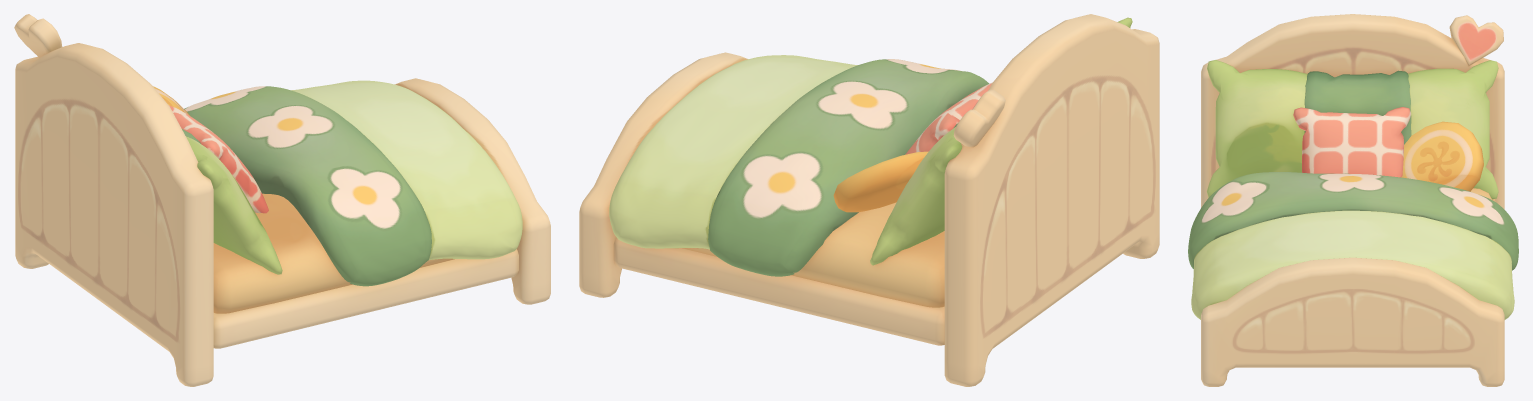
The model's file is bed.glb.
3 renders of one model, left to right at view 1: azimuth 30°, elevation 25°; view 2: azimuth 150°, elevation 25°; view 3: azimuth 270°, elevation 25°, orthographic. The views are drawn at different scales.
Visible parts, largest first — view 1: Plane, Plane.003, Plane.001, Plane.009, Plane.002, Plane.008, Plane.004, Plane.005, Circle; view 2: Plane, Plane.003, Plane.001, Plane.009, Plane.002, Plane.008, Plane.004, Plane.007, Circle, Plane.005; view 3: Plane.008, Plane.001, Plane.004, Plane, Plane.003, Plane.005, Plane.007, Plane.006, Circle.
Part boxes in pixels (x1,y1,x2,y2): Plane: (15,43,213,386); Plane.003: (184,86,431,286); Plane.001: (291,80,522,260); Plane.009: (213,249,518,348); Plane.002: (213,193,454,313); Plane.008: (395,78,550,304); Plane.004: (186,136,282,274); Plane.005: (169,105,268,213); Circle: (14,14,62,57); Plane: (944,14,1159,386); Plane.003: (708,59,989,276); Plane.001: (609,55,857,249); Plane.009: (613,237,944,345); Plane.002: (682,202,944,307); Plane.008: (579,52,748,297); Plane.004: (870,17,1132,265); Plane.007: (833,151,928,212); Circle: (953,89,1005,147); Plane.005: (905,82,992,154); Plane.008: (1201,257,1504,386); Plane.001: (1191,210,1514,319); Plane.004: (1207,60,1498,199); Plane: (1201,14,1504,209); Plane.003: (1188,172,1518,270); Plane.005: (1293,107,1411,177); Plane.007: (1401,121,1483,191); Plane.006: (1304,70,1411,144); Circle: (1449,15,1503,66).
Size of the model in its own units: 2.4 by 1.61 by 2.15.
1 material, 1 textured.
